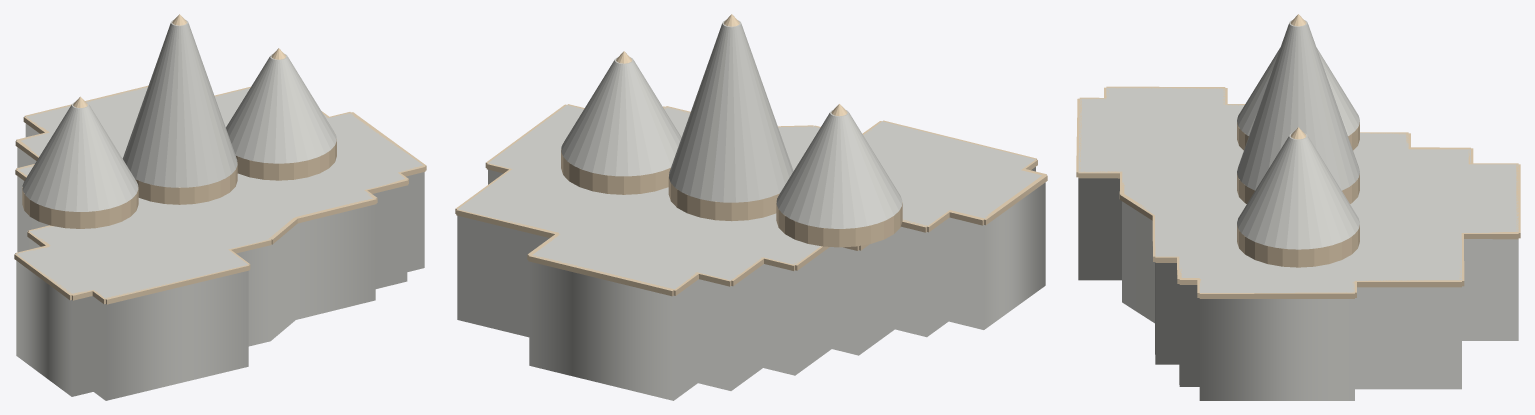
Rendered from iskcon-ghaziabad.glb.
3 views of the same model, side by side, from view 1: azimuth 30°, elevation 25°; view 2: azimuth 150°, elevation 25°; view 3: azimuth 270°, elevation 25° (orthographic). The views are drawn at different scales.
Visible parts, largest first — view 1: NCR_iskcon-ghaziabad; view 2: NCR_iskcon-ghaziabad; view 3: NCR_iskcon-ghaziabad.
Part boxes in pixels (x1,y1,x2,y2): NCR_iskcon-ghaziabad: (14, 14, 426, 400); NCR_iskcon-ghaziabad: (455, 14, 1047, 400); NCR_iskcon-ghaziabad: (1076, 14, 1520, 400).
Bounding box in the file's own units: 37.5 × 24 × 34.01.
